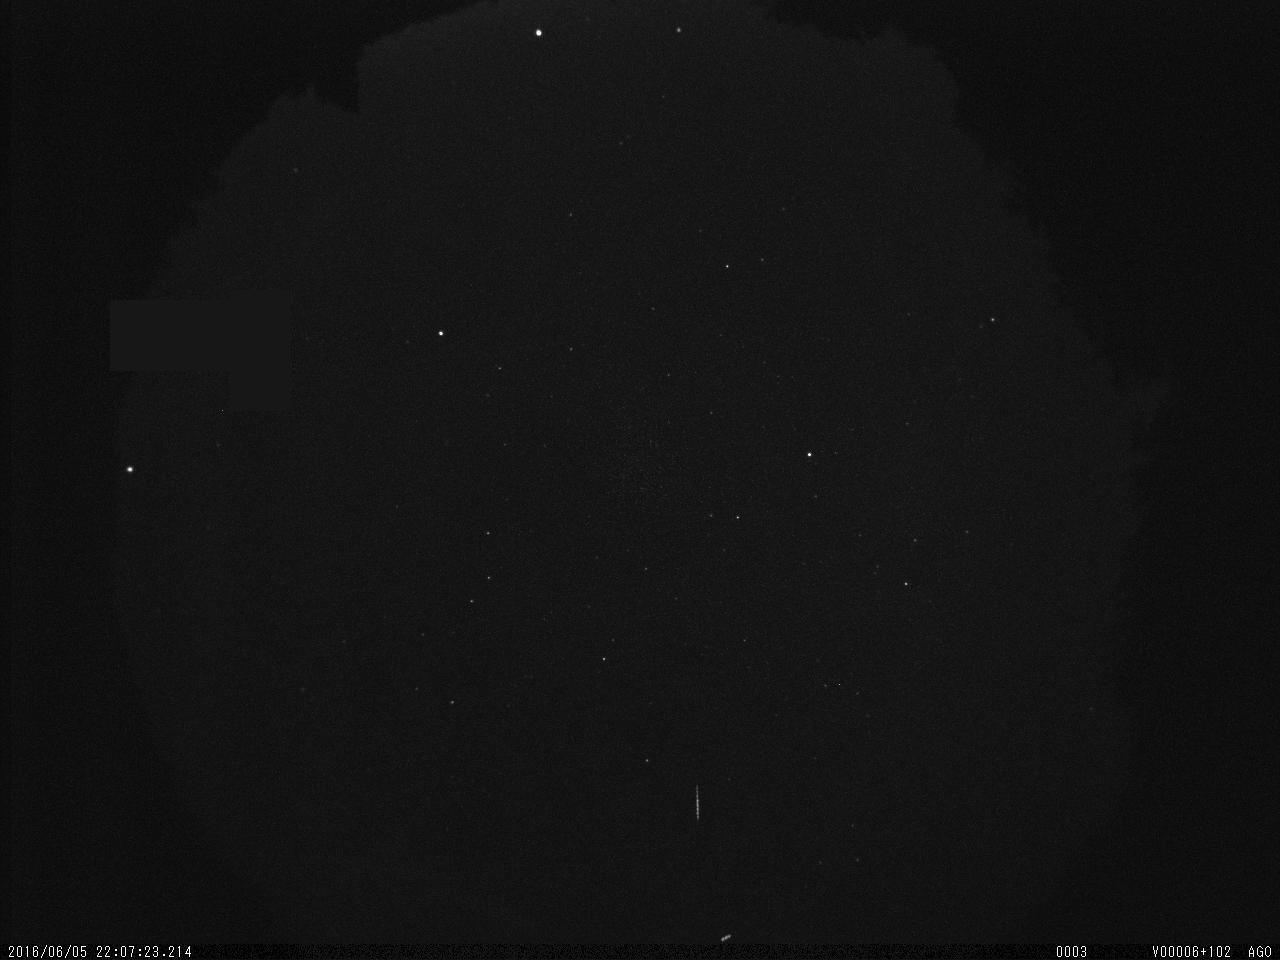meteor: (688, 777, 713, 827)
